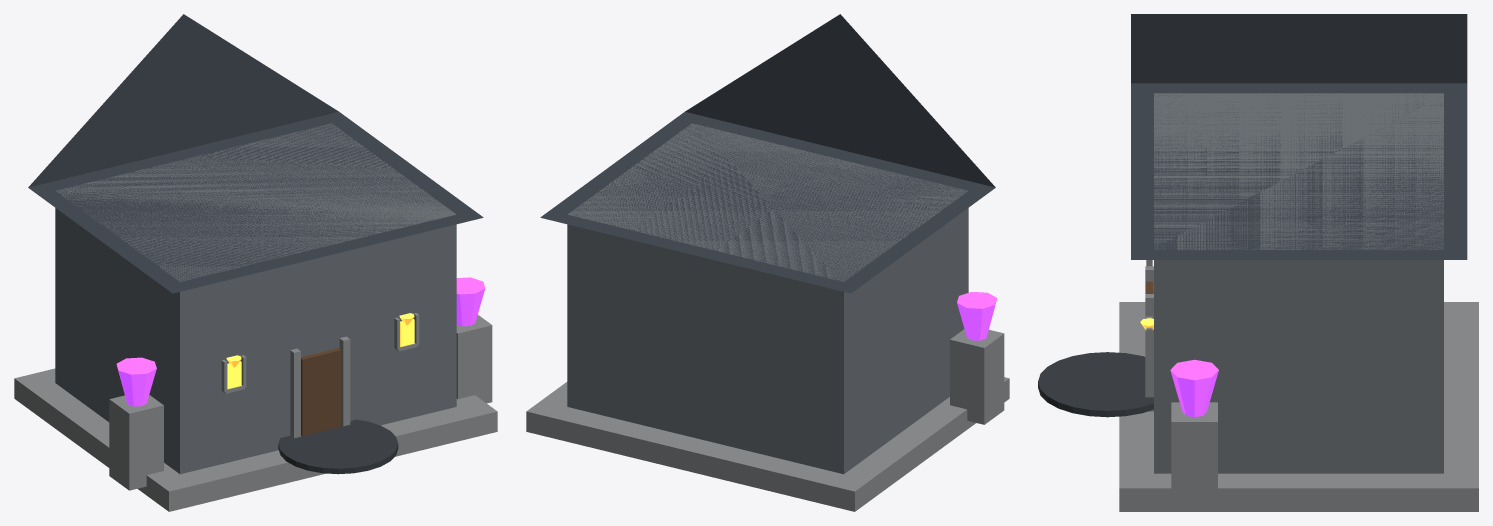
The model's file is enchanter.glb.
3 views of the same model, side by side, from view 1: azimuth 30°, elevation 25°; view 2: azimuth 150°, elevation 25°; view 3: azimuth 270°, elevation 25° (orthographic). The views are drawn at different scales.
Parts seen in each view (by area): view 1: Walls, Roof, Foundation, ArcaneRing, PylonBase0, Door, PylonBase1, Crystal0, Crystal1, DoorFrameL, DoorFrameR; view 2: Walls, Roof, Foundation, PylonBase0, Crystal0; view 3: Walls, Roof, Foundation, ArcaneRing, PylonBase1, Crystal1, DoorFrameR.
Boxes of the visible parts, left/top/right/bottom form: Walls: left=55, top=123, right=456, bottom=474; Roof: left=28, top=14, right=483, bottom=293; Foundation: left=14, top=368, right=497, bottom=511; ArcaneRing: left=278, top=419, right=398, bottom=474; PylonBase0: left=109, top=395, right=163, bottom=490; Door: left=301, top=348, right=341, bottom=435; PylonBase1: left=456, top=315, right=492, bottom=403; Crystal0: left=116, top=357, right=156, bottom=406; Crystal1: left=456, top=277, right=485, bottom=326; DoorFrameL: left=290, top=348, right=300, bottom=438; DoorFrameR: left=339, top=336, right=350, bottom=426; Walls: left=567, top=123, right=968, bottom=474; Roof: left=540, top=14, right=995, bottom=293; Foundation: left=526, top=377, right=1009, bottom=511; PylonBase0: left=950, top=329, right=1004, bottom=424; Crystal0: left=957, top=292, right=997, bottom=340; Walls: left=1154, top=93, right=1443, bottom=473; Roof: left=1131, top=14, right=1467, bottom=259; Foundation: left=1119, top=302, right=1478, bottom=511; ArcaneRing: left=1038, top=352, right=1153, bottom=417; PylonBase1: left=1171, top=402, right=1217, bottom=511; Crystal1: left=1170, top=359, right=1218, bottom=417; DoorFrameR: left=1145, top=294, right=1153, bottom=397.
Bounding box in the file's own units: 8.44 × 7.7 × 7.6.
